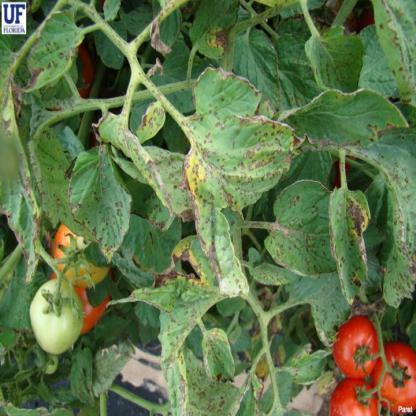Tomato leaf late blight: (164, 61, 292, 290), (256, 175, 352, 281), (149, 264, 214, 413), (69, 132, 136, 270), (278, 89, 411, 154), (320, 180, 374, 311), (197, 328, 235, 389)
